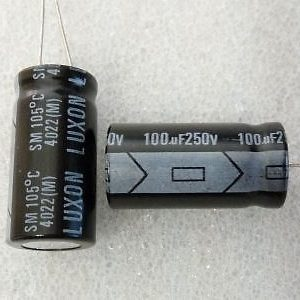Capacitor: (5, 65, 99, 251), (104, 121, 290, 211)
